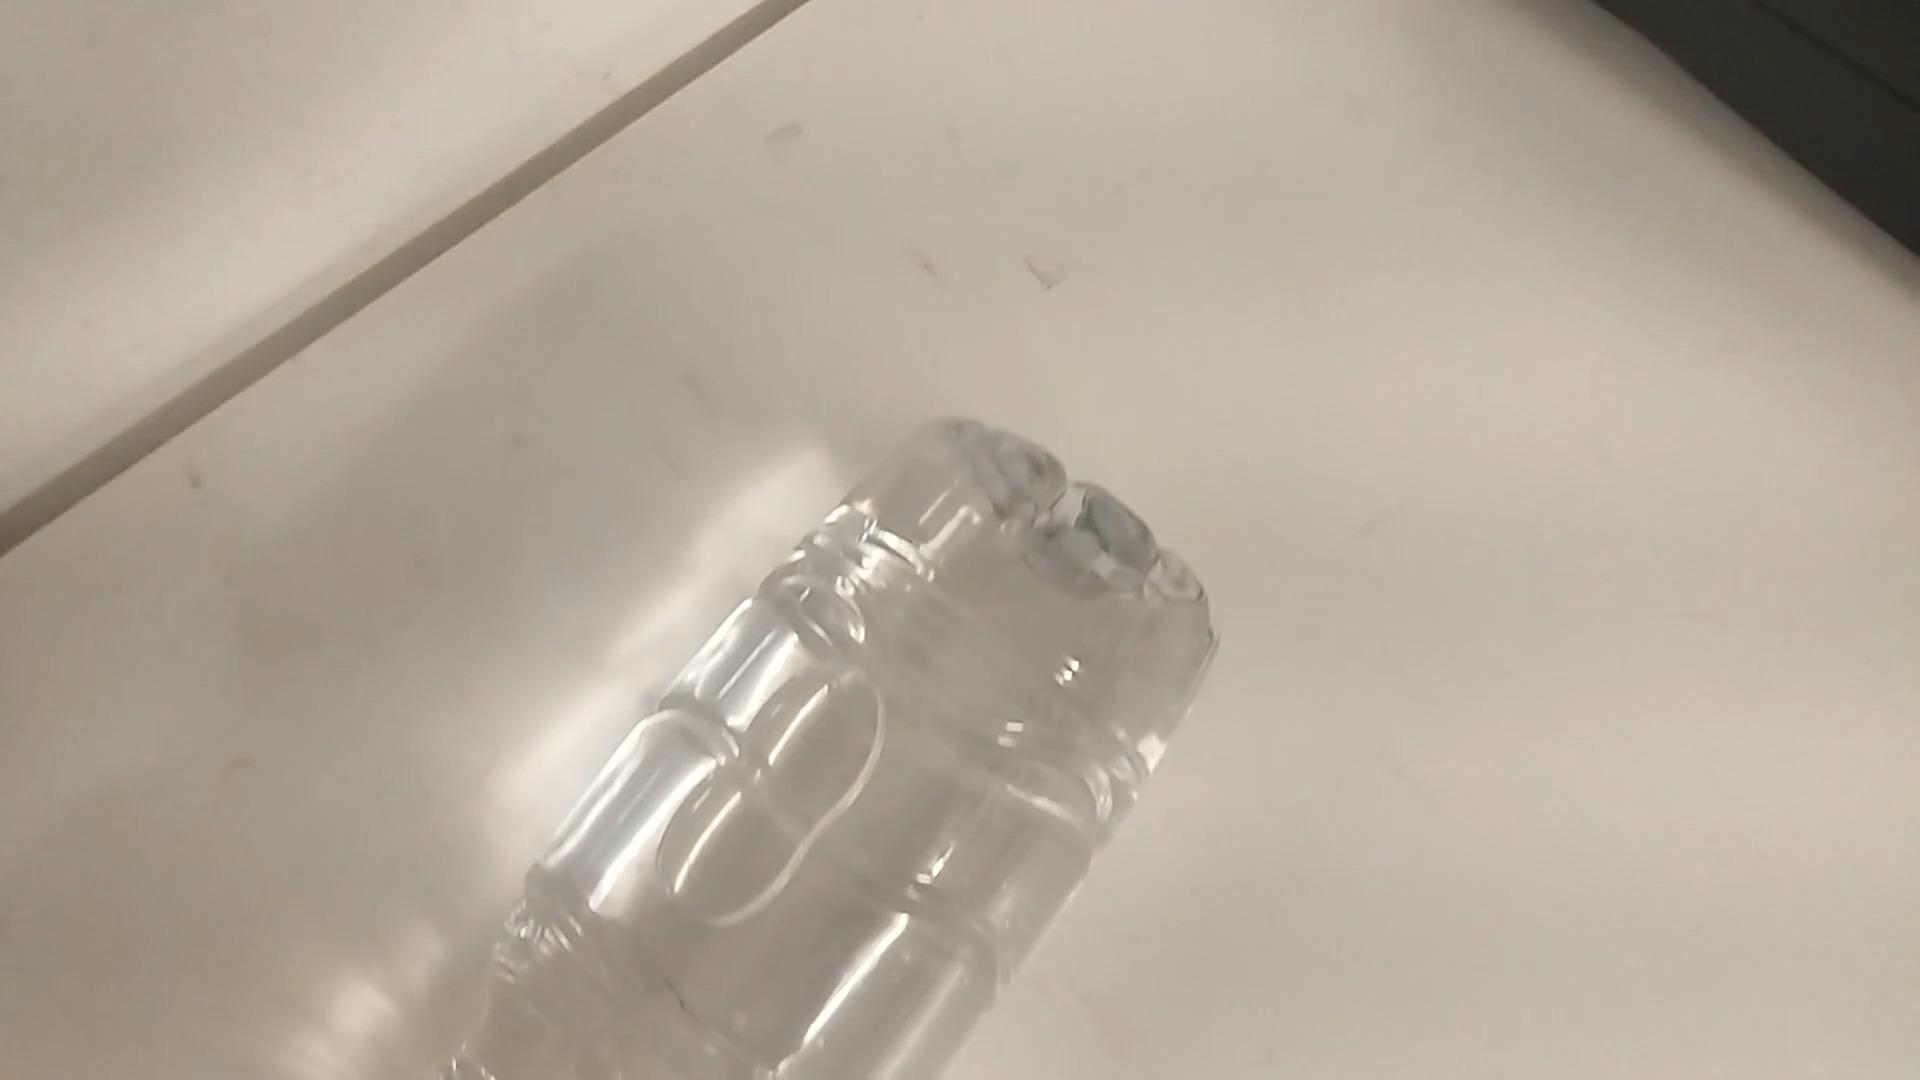agua: (375, 410, 1211, 1080)
